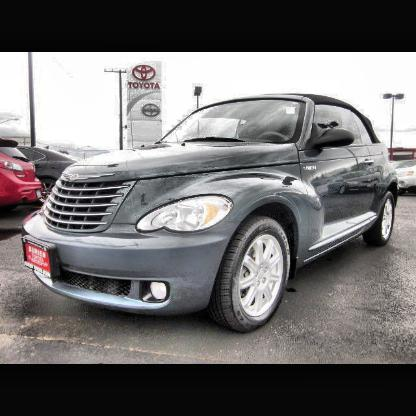Chrysler PT Cruiser Convertible 2008: (22, 94, 398, 335)
